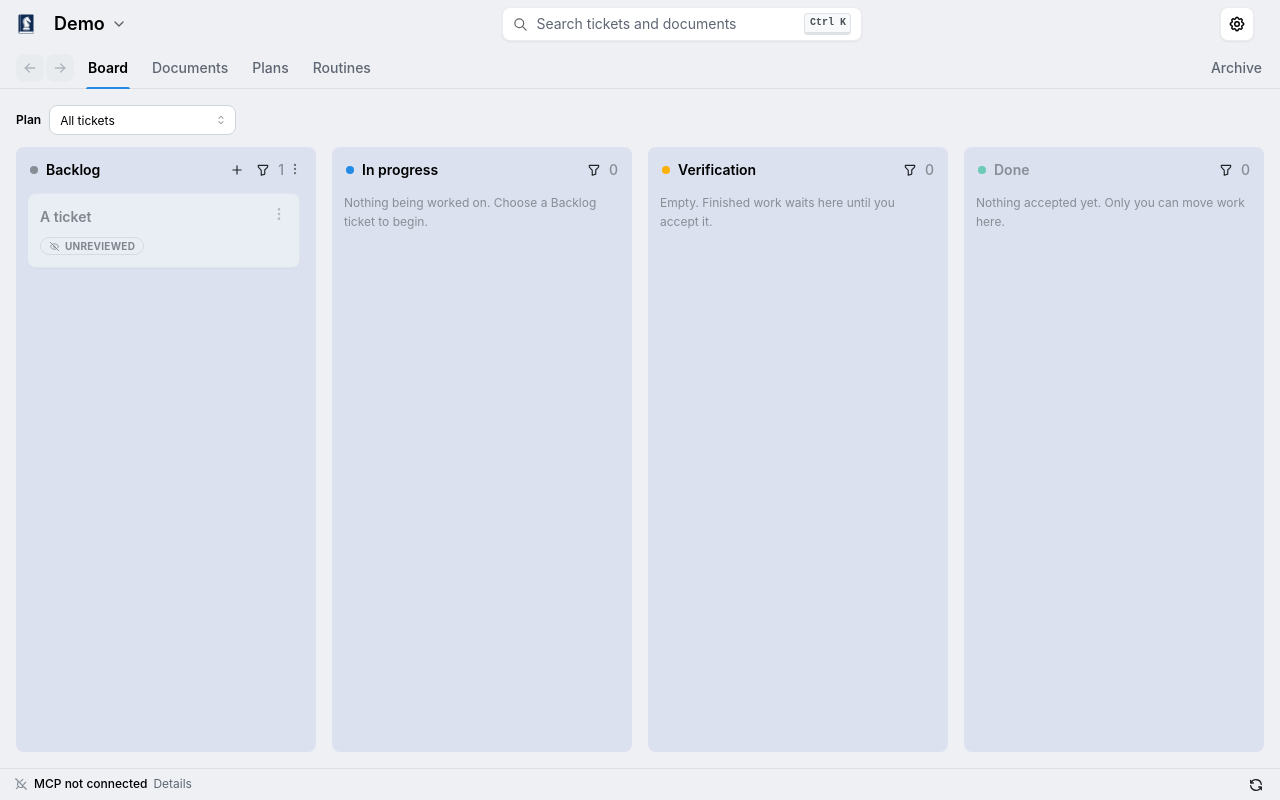
Test: the new-ticket form › starts from the usual sections, with no type chosen
Expected: the text "A ticket" is shown, top-left (40, 208), bottom-right (91, 225)
Click the button named "New ticket in Backlog" at x=237, y=170, box top-left (226, 159), bottom-right (248, 181)
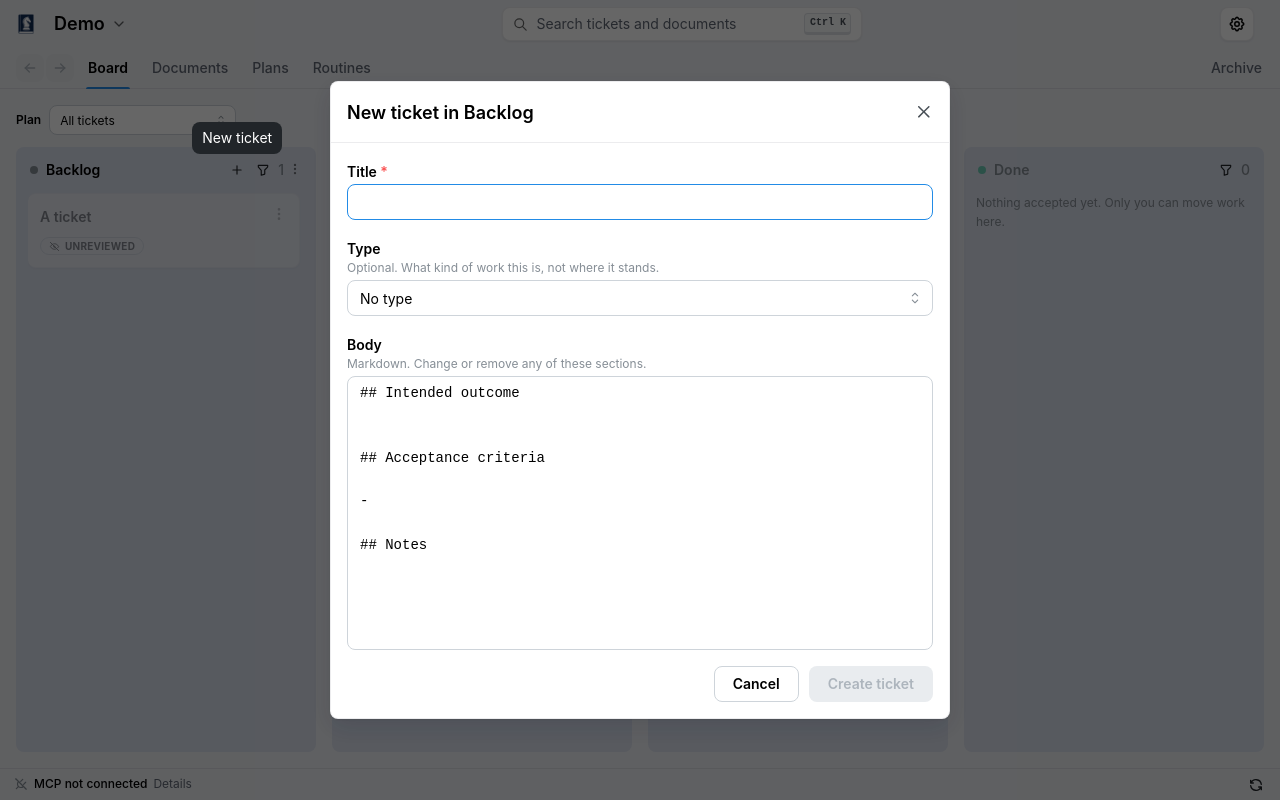
Now the dropdown labelled "Type" holds "No type", box top-left (347, 280), bottom-right (933, 316)
